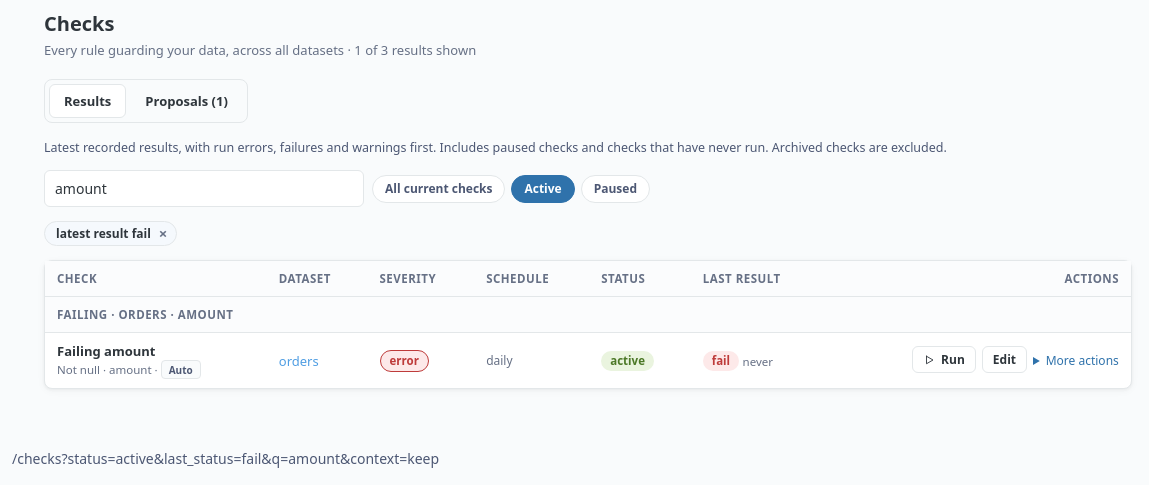
Test: Check results and proposals › preserves result filters through a Proposals roundtrip
Expected: the link "Failing amount" is shown, [57, 342, 155, 360]
Click the button "Proposals (1)" at (187, 101), box [130, 84, 243, 118]
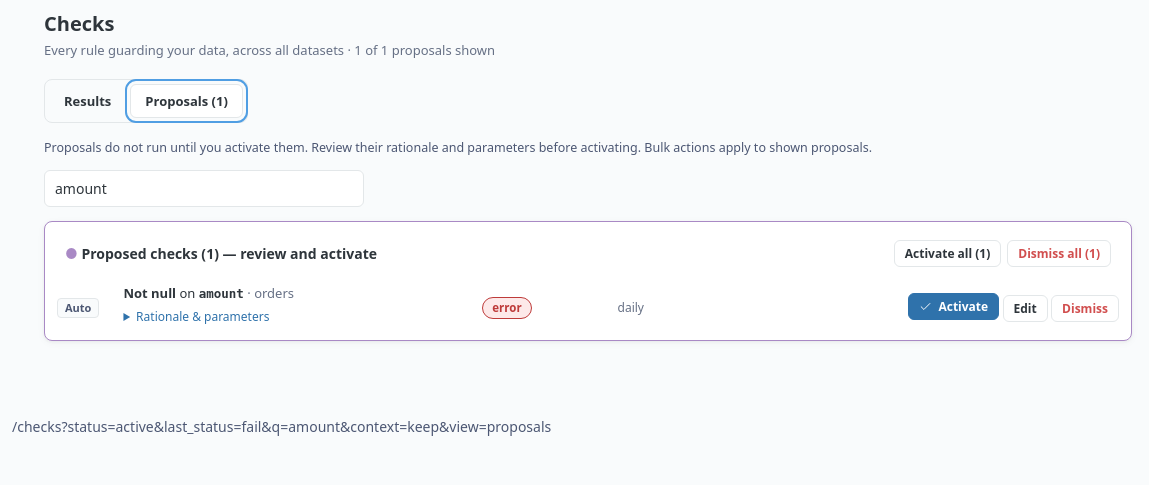
Expected: the text with test id "location" shows "status=active&last_status=fail&q=amount&context=keep", [61, 417, 551, 436]
Now the button "Activate all (1)" is shown, box [894, 240, 1001, 267]
Click the button "Results" at (88, 101), box [49, 84, 126, 118]
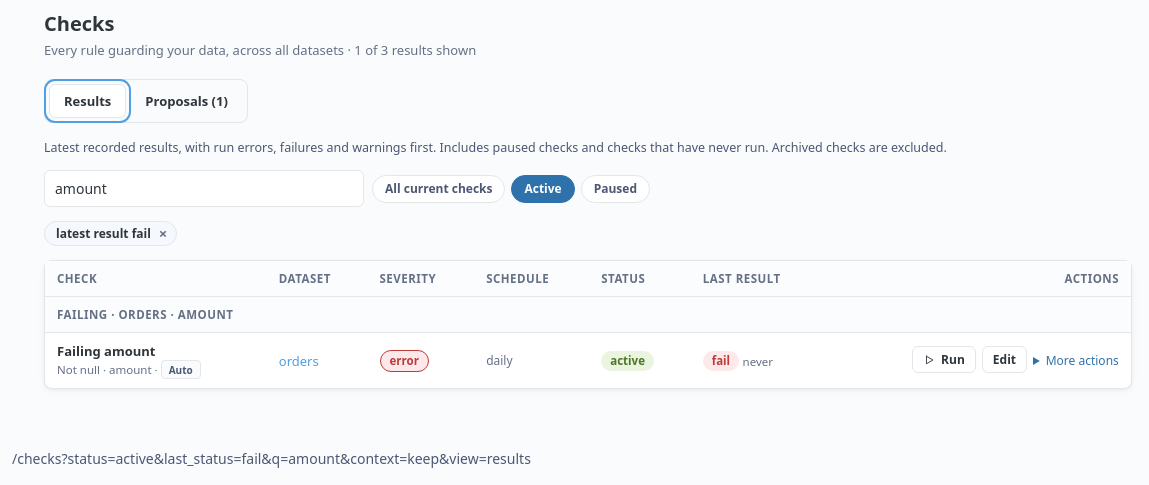
Expected: the text with test id "location" shows "status=active&last_status=fail&q=amount&context=keep", [61, 449, 531, 468]
Now the link "Failing amount" is shown, box [57, 342, 155, 360]
